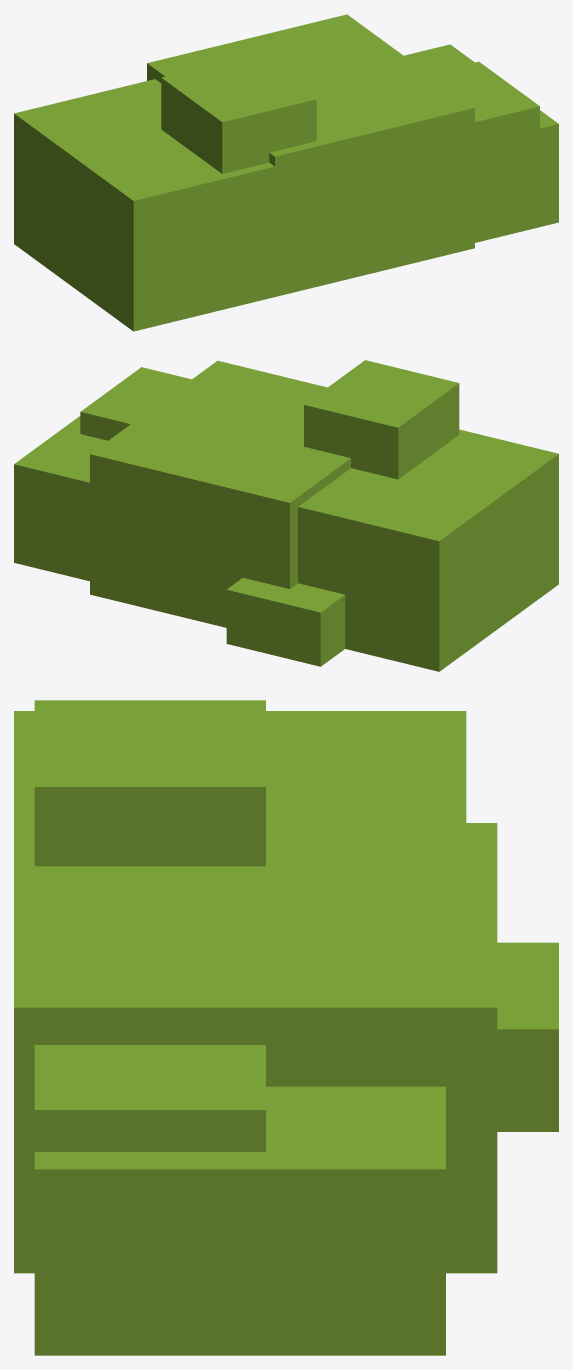
File: Semak.fbx
3 views of the same model, one above another, from view 1: azimuth 30°, elevation 25°; view 2: azimuth 150°, elevation 25°; view 3: azimuth 270°, elevation 25° (orthographic). The views are drawn at different scales.
Parts seen in each view (by area): view 1: cube_1, cube_2, cube_4, cube, cube_3; view 2: cube_2, cube_1, cube_4, cube, cube_5, cube_3; view 3: cube_2, cube, cube_4, cube_1, cube_3, cube_5.
Part boxes in pixels (x1,y1,x2,y2): cube_1: (14, 79, 333, 331); cube_2: (147, 14, 474, 296); cube_4: (161, 54, 316, 173); cube: (404, 44, 558, 242); cube_3: (429, 61, 539, 144); cube_2: (90, 360, 350, 627); cube_1: (298, 429, 558, 671); cube_4: (304, 360, 459, 479); cube: (14, 416, 107, 581); cube_5: (226, 578, 345, 666); cube_3: (80, 367, 191, 440); cube_2: (14, 823, 497, 1273); cube: (34, 1086, 445, 1355); cube_4: (34, 700, 265, 866); cube_1: (14, 711, 466, 822); cube_3: (34, 1045, 265, 1151); cube_5: (497, 942, 558, 1131).
Size of the model in its own units: 327 by 132 by 189.
1 material, 1 textured.
